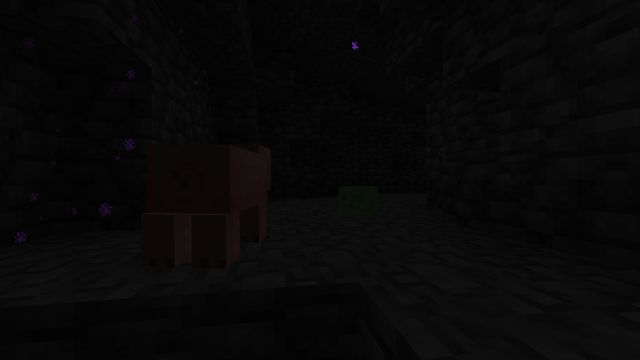cochons: (140, 141, 269, 265)
slimes: (340, 185, 376, 216)
